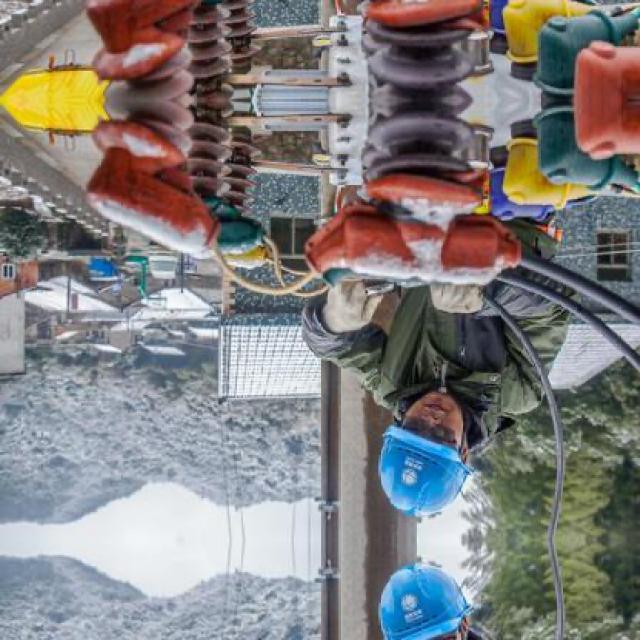con casco: (362, 395, 486, 520)
